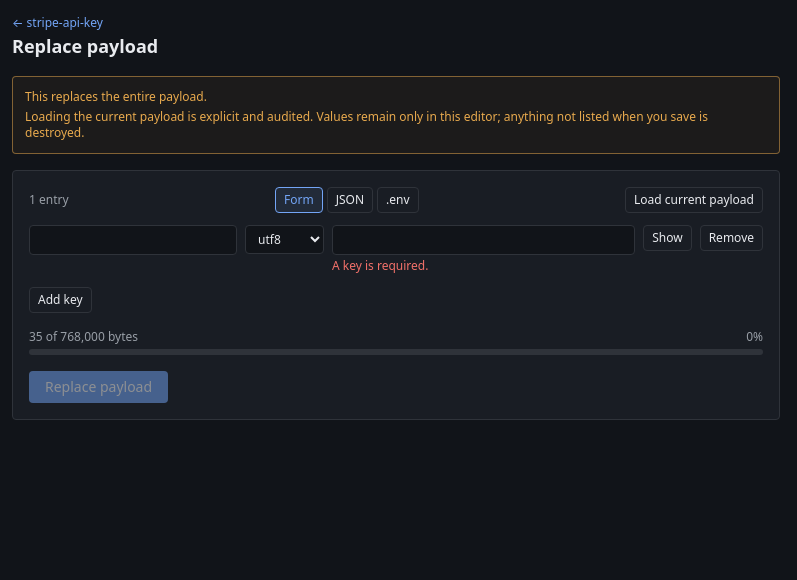
Test: SecretPayload tabs › shows the base64 warning on the .env tab only when base64 entries exist
Click the tab ".env": (398, 200) [377,187,419,213]
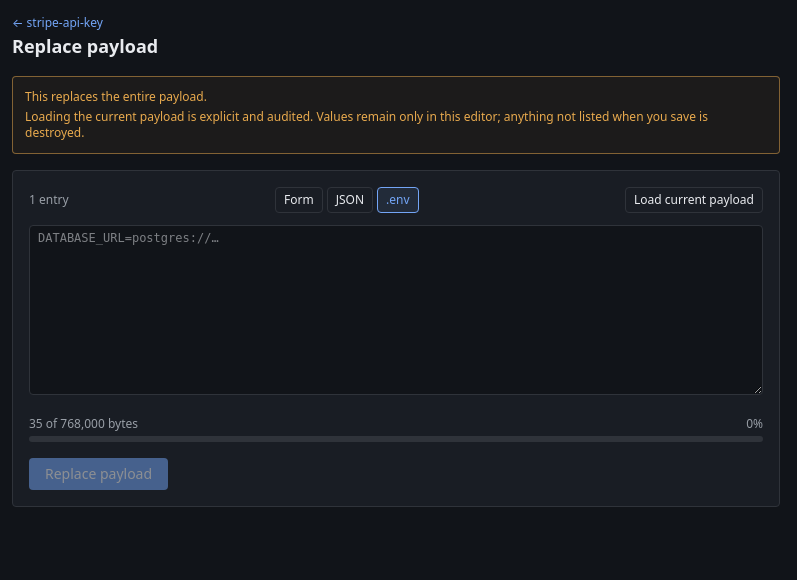
Expected: the text "base64-encoded" is not shown
Click the tab "Form": (299, 200) [275,187,323,213]
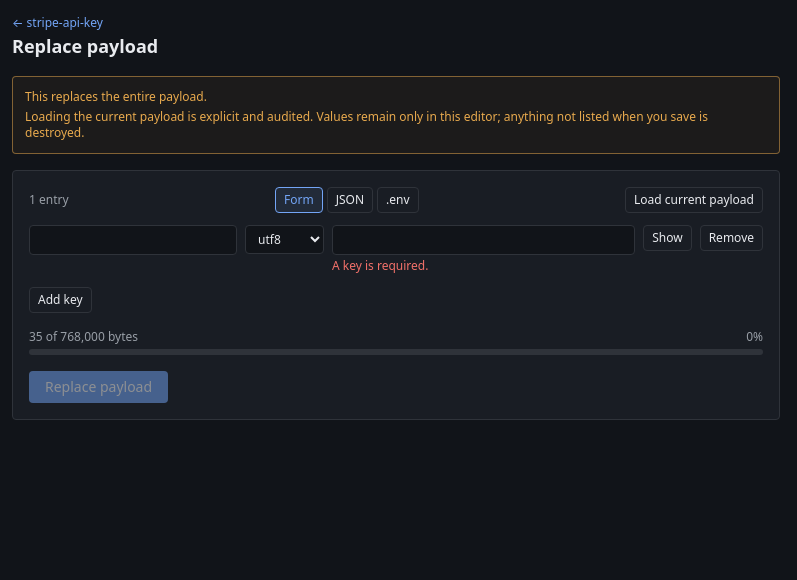
In the field: (133, 240) [29,225,237,255], type "TOKEN"
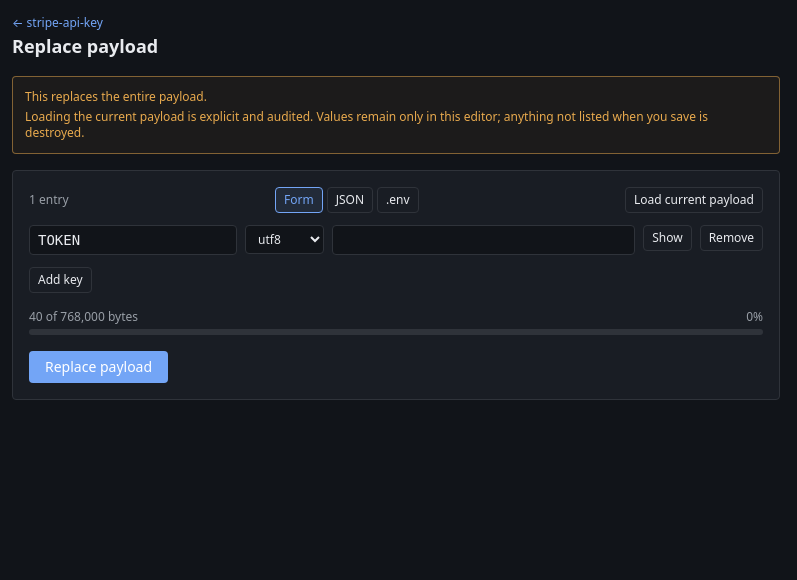
Select "base64" in the dropdown: (284, 240) [245,225,324,254]
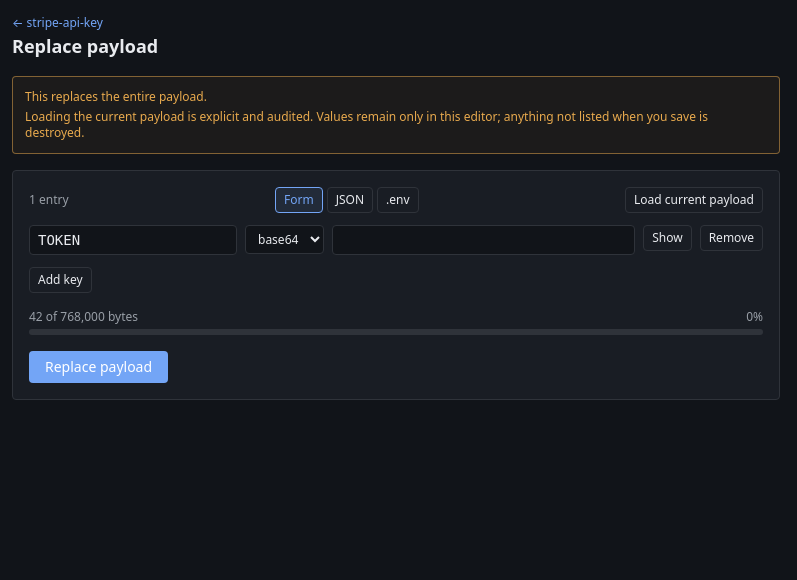
In the password field: (484, 240) [332,225,635,255], type "c2VjcmV0"
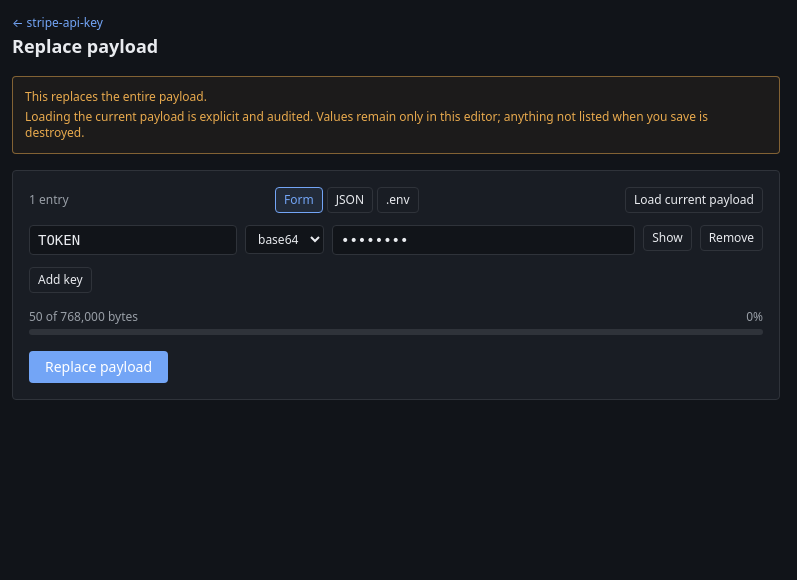
Click the tab ".env": (398, 200) [377,187,419,213]
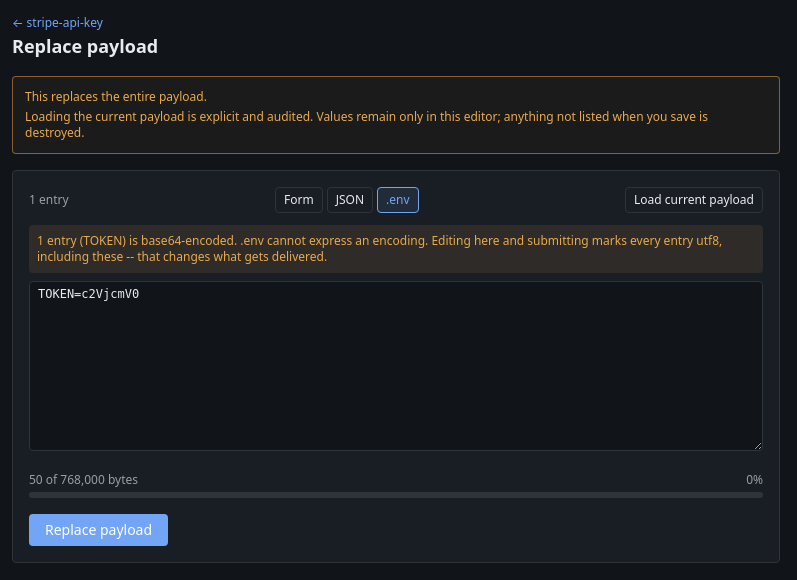
Result: the text "base64-encoded" is shown at [37,232,240,249]
Result: the text "TOKEN" is shown at [37,232,240,249]
